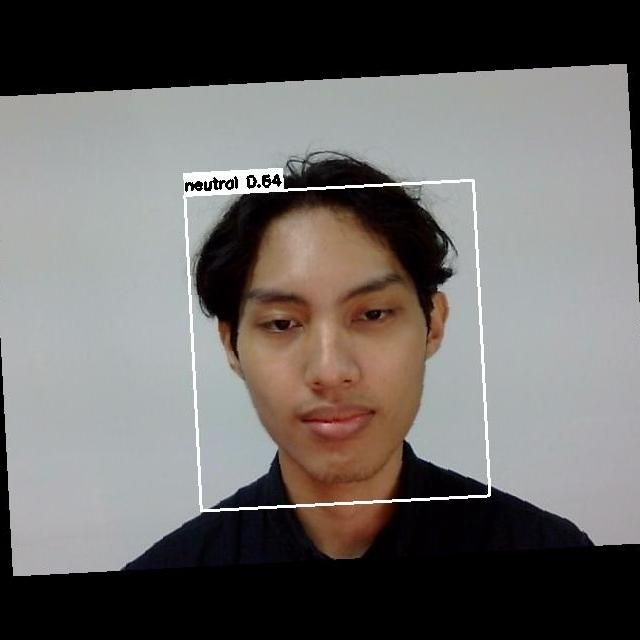Natural: (231, 275, 424, 451)
